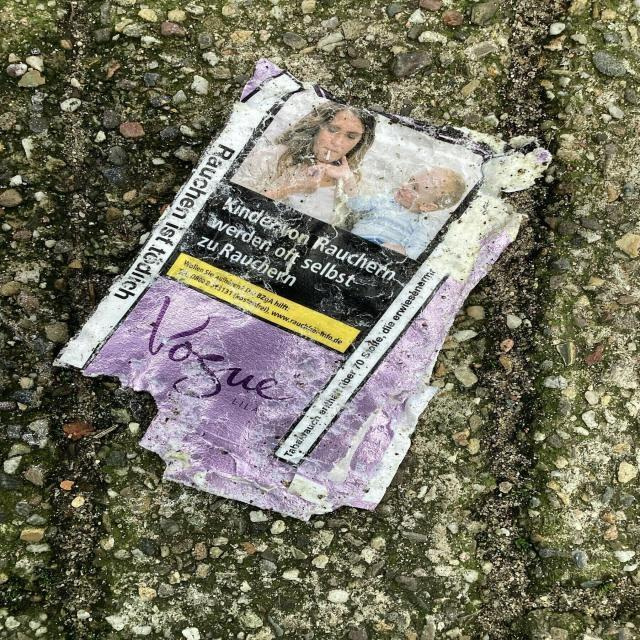Paper: (41, 53, 556, 528)
